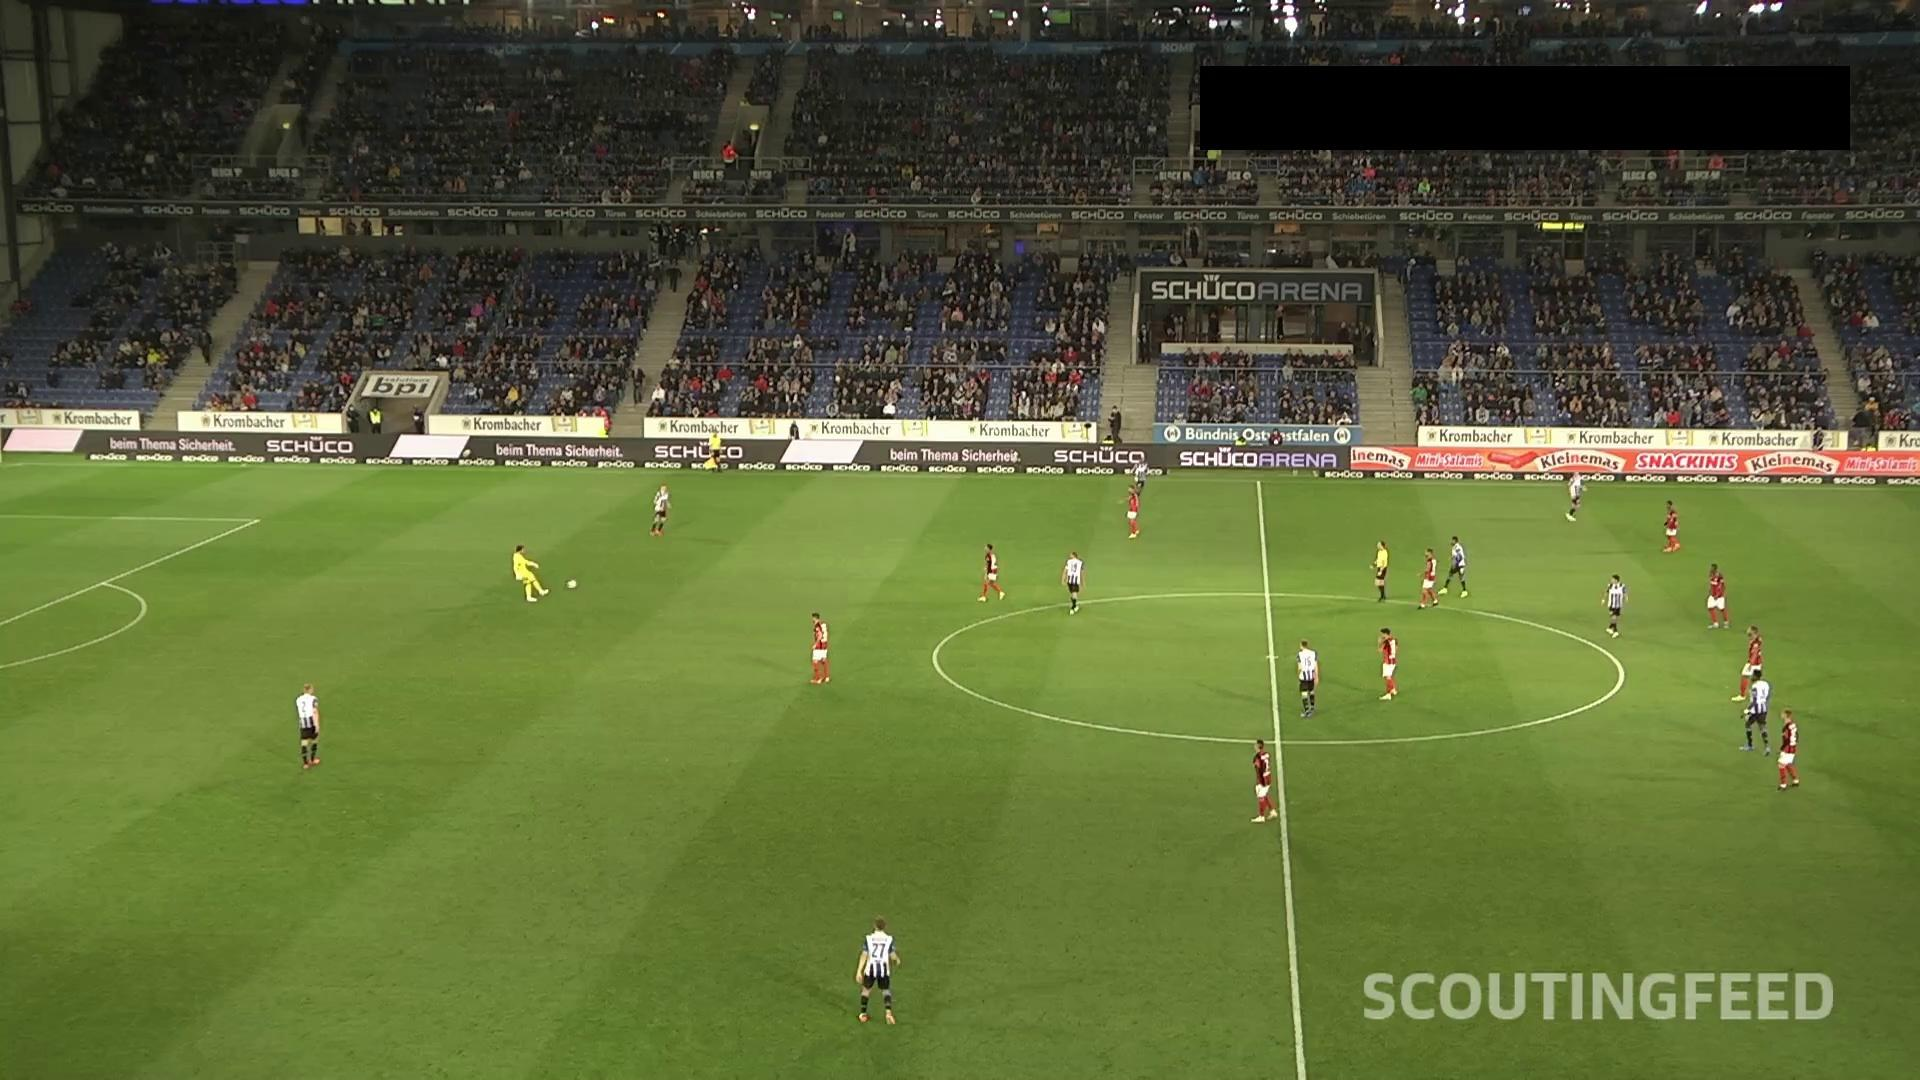Location-of-ball: (563, 564, 591, 601)
